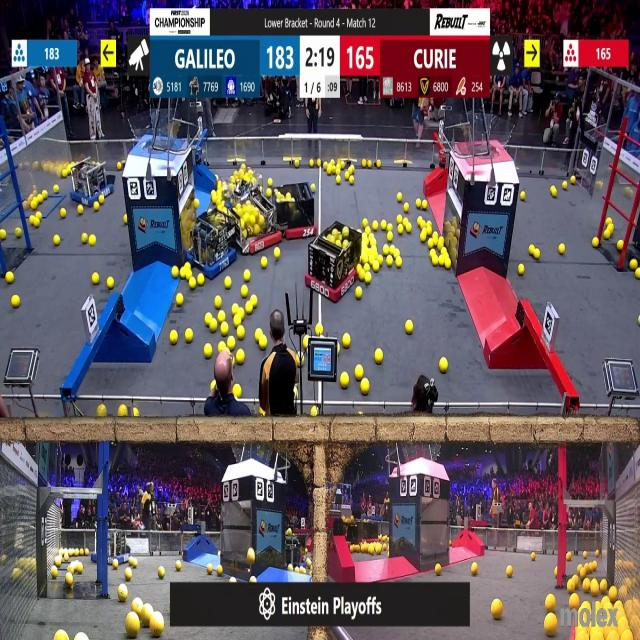ball_ground: (127, 616, 141, 638), (150, 616, 163, 638), (544, 616, 556, 637), (492, 600, 502, 619), (544, 594, 554, 612), (118, 586, 128, 602), (566, 580, 576, 594), (590, 582, 600, 596), (360, 380, 369, 394), (441, 357, 449, 372), (376, 349, 384, 364), (343, 335, 351, 349), (406, 320, 414, 334), (570, 595, 578, 609), (237, 350, 245, 364), (608, 588, 616, 602), (57, 630, 68, 640), (98, 407, 107, 419), (342, 374, 349, 389), (170, 332, 178, 345), (355, 365, 363, 378), (226, 338, 234, 351), (210, 319, 218, 332), (245, 550, 252, 564), (176, 293, 184, 305), (172, 268, 180, 280), (11, 295, 19, 307), (258, 338, 266, 350), (132, 600, 140, 612), (185, 328, 192, 341), (238, 326, 245, 339), (205, 345, 212, 358), (235, 385, 242, 398), (118, 407, 126, 418), (76, 563, 84, 574), (470, 563, 477, 575), (214, 296, 221, 308), (316, 323, 323, 335), (220, 323, 227, 335), (93, 274, 100, 286), (126, 568, 133, 580), (205, 314, 212, 326), (584, 581, 591, 593), (217, 312, 225, 322), (218, 343, 226, 353), (363, 274, 371, 284), (370, 220, 378, 230), (245, 305, 253, 315), (434, 564, 441, 575), (107, 278, 114, 289), (81, 234, 88, 245), (244, 271, 251, 282), (90, 236, 97, 247), (67, 573, 74, 584), (631, 261, 638, 272), (180, 268, 187, 279), (356, 265, 363, 276), (242, 285, 248, 297), (395, 256, 401, 268), (356, 287, 362, 299), (6, 273, 12, 285), (160, 566, 166, 578), (251, 294, 257, 306), (263, 256, 269, 268), (534, 248, 540, 260), (212, 190, 218, 202), (618, 241, 625, 251), (198, 276, 205, 286), (445, 261, 452, 271), (234, 316, 241, 326), (224, 278, 230, 289), (518, 266, 524, 277), (189, 278, 195, 289), (51, 567, 57, 578), (75, 634, 86, 640), (439, 257, 445, 268), (131, 559, 138, 568), (420, 234, 427, 243), (421, 201, 428, 210), (506, 566, 512, 576), (0, 231, 6, 241), (559, 244, 565, 254), (593, 238, 599, 248), (275, 248, 281, 258), (217, 565, 223, 575), (387, 256, 393, 266), (55, 236, 61, 246), (233, 305, 239, 315), (383, 245, 389, 255), (387, 232, 393, 242), (34, 217, 40, 227), (392, 246, 398, 256), (304, 338, 309, 350), (426, 225, 432, 235), (551, 186, 557, 196), (32, 200, 38, 210), (311, 410, 318, 418), (374, 265, 381, 273), (250, 575, 257, 583), (395, 192, 402, 200), (363, 264, 370, 272), (401, 216, 408, 224), (349, 176, 356, 184), (61, 209, 67, 218), (387, 221, 393, 230), (255, 328, 261, 337), (416, 200, 422, 209), (418, 217, 424, 226), (431, 256, 437, 265), (210, 382, 216, 391), (77, 206, 83, 215), (396, 214, 402, 223), (378, 255, 384, 264), (42, 189, 48, 198), (94, 203, 100, 212), (29, 216, 35, 225), (439, 238, 445, 247), (133, 409, 139, 418), (367, 255, 373, 264), (360, 254, 366, 263), (176, 561, 181, 571), (428, 238, 433, 248), (403, 203, 408, 213), (529, 246, 534, 256), (604, 232, 610, 240), (562, 181, 568, 189), (362, 218, 368, 226), (407, 224, 413, 232), (112, 561, 118, 569), (293, 161, 299, 169), (369, 239, 375, 247), (15, 230, 20, 239), (521, 190, 526, 199), (398, 224, 403, 233), (269, 178, 274, 187), (100, 194, 105, 203), (193, 200, 198, 209), (566, 553, 571, 562), (309, 161, 315, 168), (298, 567, 304, 574), (55, 185, 61, 192), (316, 161, 322, 168), (336, 169, 342, 176), (570, 176, 575, 184), (531, 553, 536, 561), (208, 564, 212, 574), (636, 270, 640, 280), (259, 410, 264, 418), (361, 161, 366, 169), (366, 162, 371, 170), (84, 550, 89, 558), (123, 214, 127, 223), (555, 567, 559, 576), (231, 576, 237, 582), (337, 177, 342, 184), (116, 164, 121, 171), (430, 249, 435, 256), (326, 168, 331, 175), (442, 248, 447, 255), (432, 233, 437, 240), (312, 183, 316, 191), (378, 162, 382, 169), (288, 565, 292, 572), (596, 551, 600, 558)
goal: (461, 118, 516, 158), (129, 116, 187, 152)
robot_blue: (186, 208, 240, 279), (72, 160, 115, 206), (226, 164, 263, 205), (282, 528, 310, 569), (106, 529, 129, 564)
robot_red: (306, 224, 360, 299), (271, 182, 316, 240), (244, 192, 276, 252), (344, 516, 369, 547)
